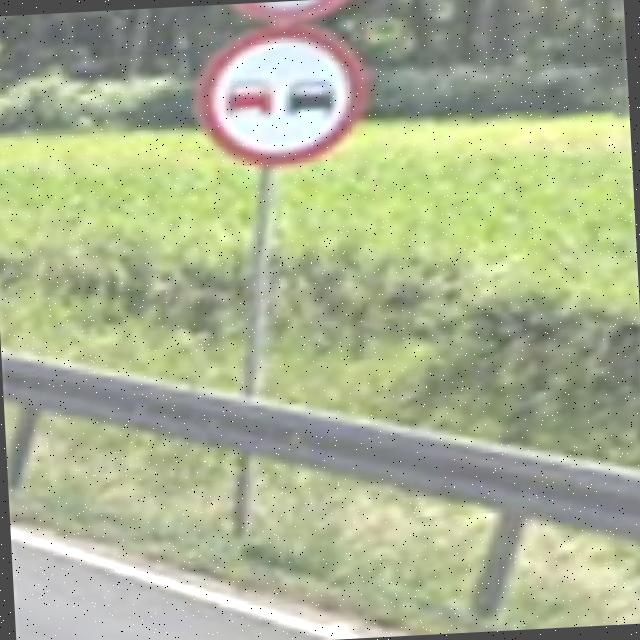Zakaz wyprzedzania: (190, 19, 376, 172)
